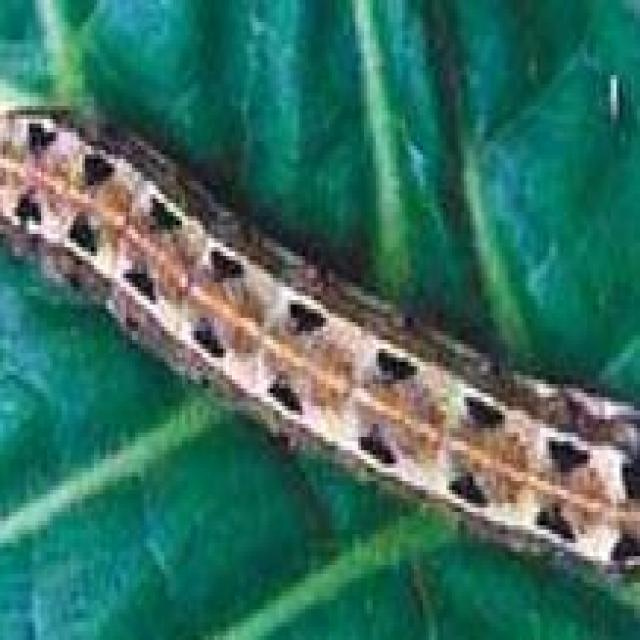armyworm: (1, 100, 640, 617)
